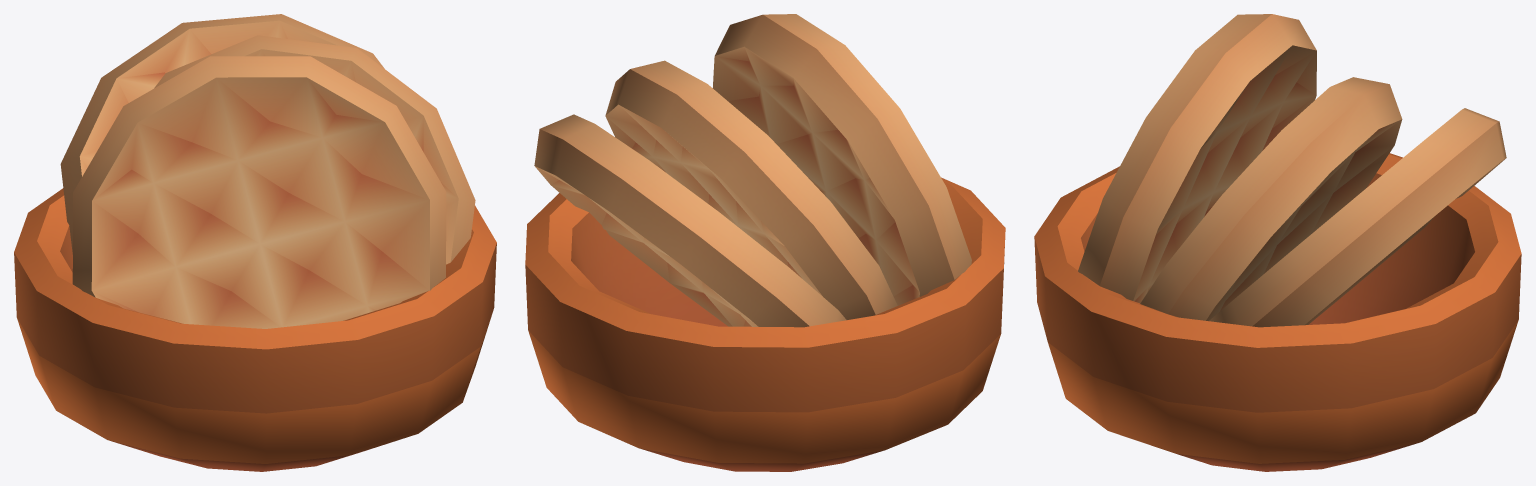
The model's file is icecream_bowl_waffles.obj.
3 views of the same model, side by side, from view 1: azimuth 30°, elevation 25°; view 2: azimuth 150°, elevation 25°; view 3: azimuth 270°, elevation 25° (orthographic).
Visible parts, largest first — view 1: icecream_bowl_waffles_Sphere.130; view 2: icecream_bowl_waffles_Sphere.130; view 3: icecream_bowl_waffles_Sphere.130.
Boxes of the visible parts, x1,y1,x2,y2 form: icecream_bowl_waffles_Sphere.130: (14, 14, 496, 471); icecream_bowl_waffles_Sphere.130: (525, 14, 1005, 471); icecream_bowl_waffles_Sphere.130: (1034, 14, 1521, 471).
Size of the model in its own units: 0.7474 by 0.6325 by 0.7474.
Materials: 1 (1 with a texture image).
